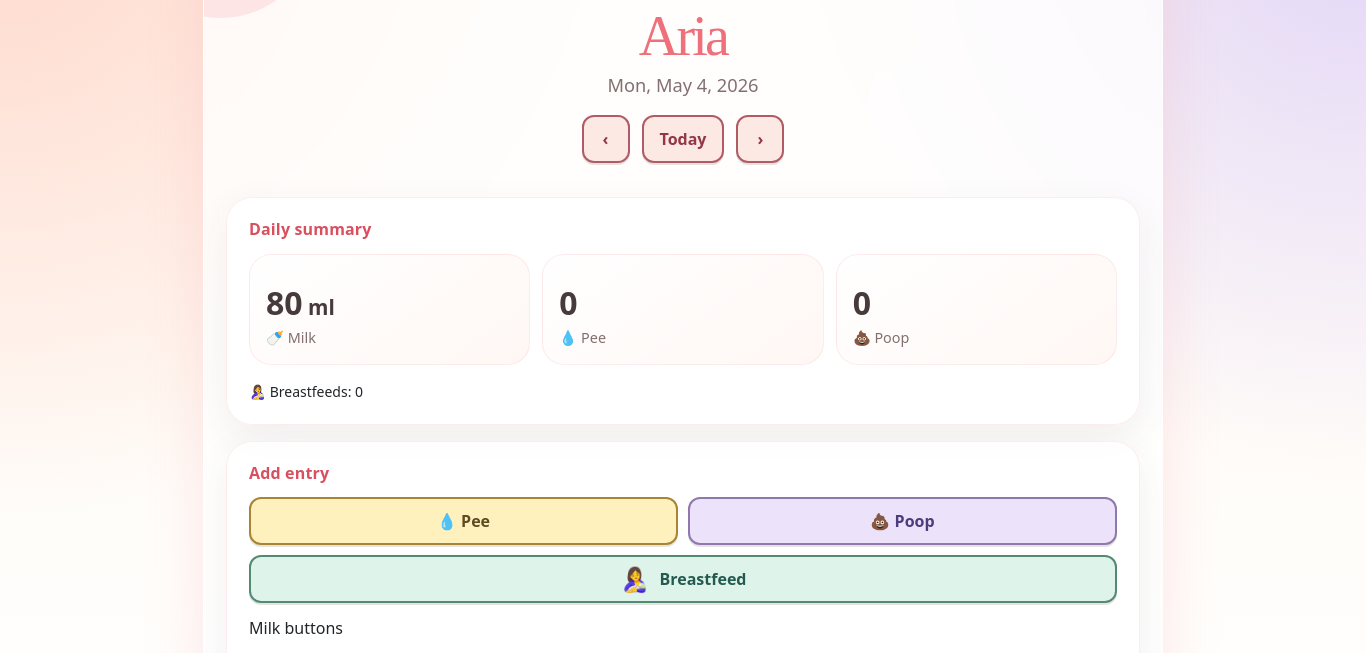
Test: breastfeeding logs only time, guards duplicate taps, and leaves milk totals unchanged
Later steps or results of the test are not shown.
Click the button with aria-label "Log breastfeeding": click(683, 579) [249,555,1117,603]
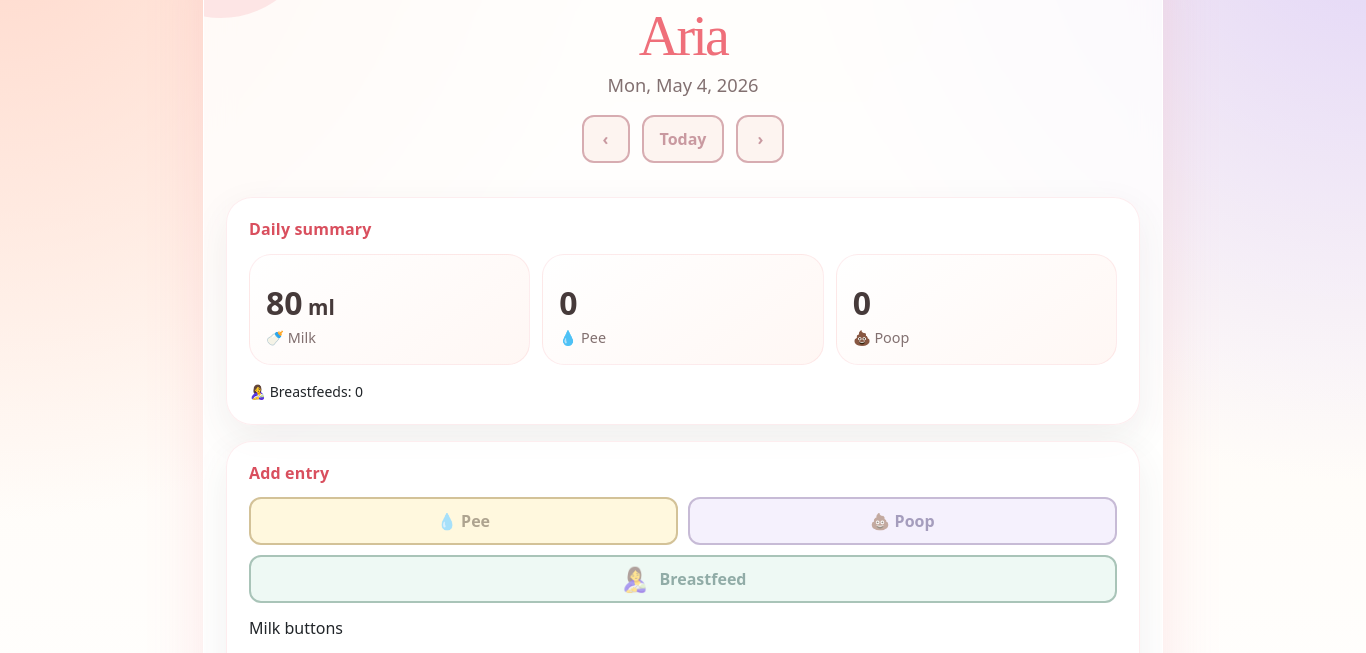
Click the button with aria-label "Log breastfeeding": click(683, 579) [249,555,1117,603]
(page scrolled)
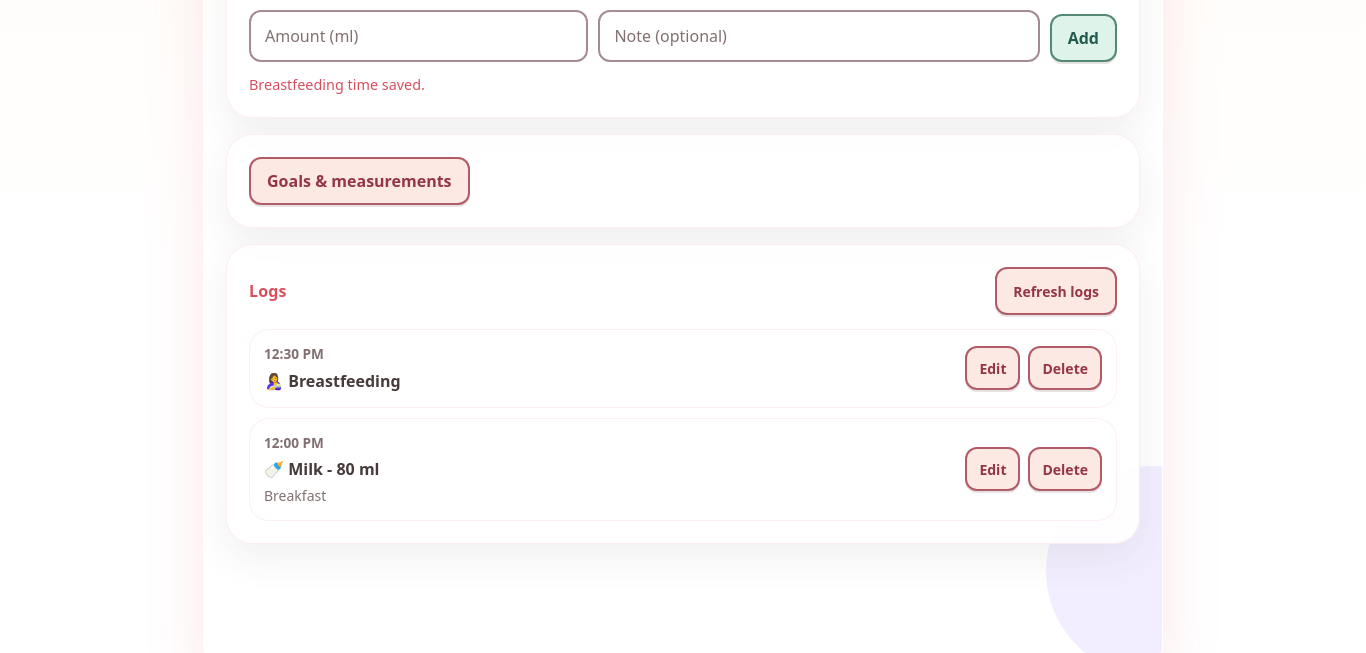
Expected: the list item named "Delete breastfeeding entry 7" does not show "ml", [249,329,1117,408]
Now the list item named "Delete breastfeeding entry 7" shows "Breastfeeding", box [288,370,401,392]
